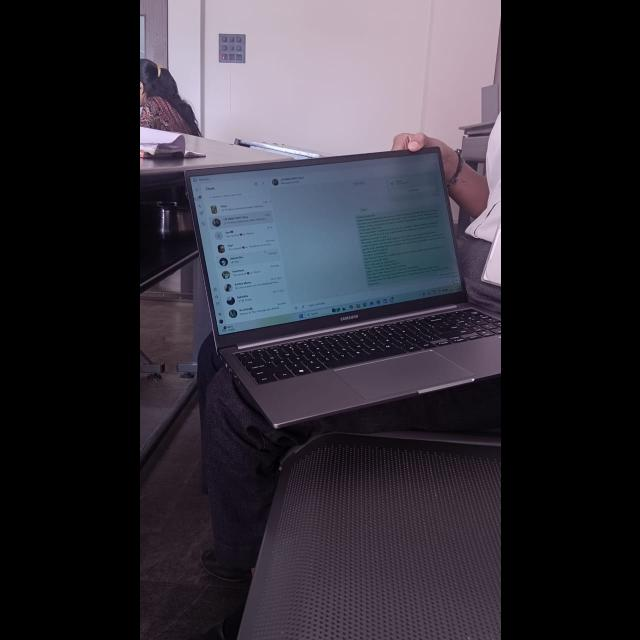laptop: (180, 144, 500, 448)
